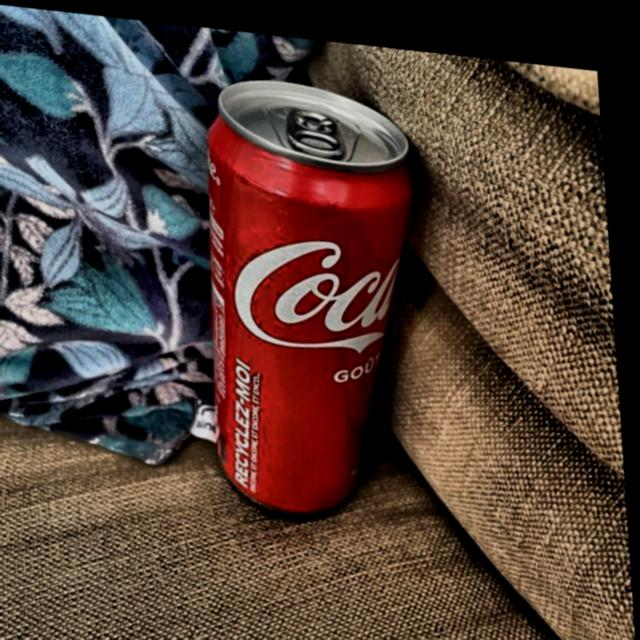can: (166, 49, 453, 526)
